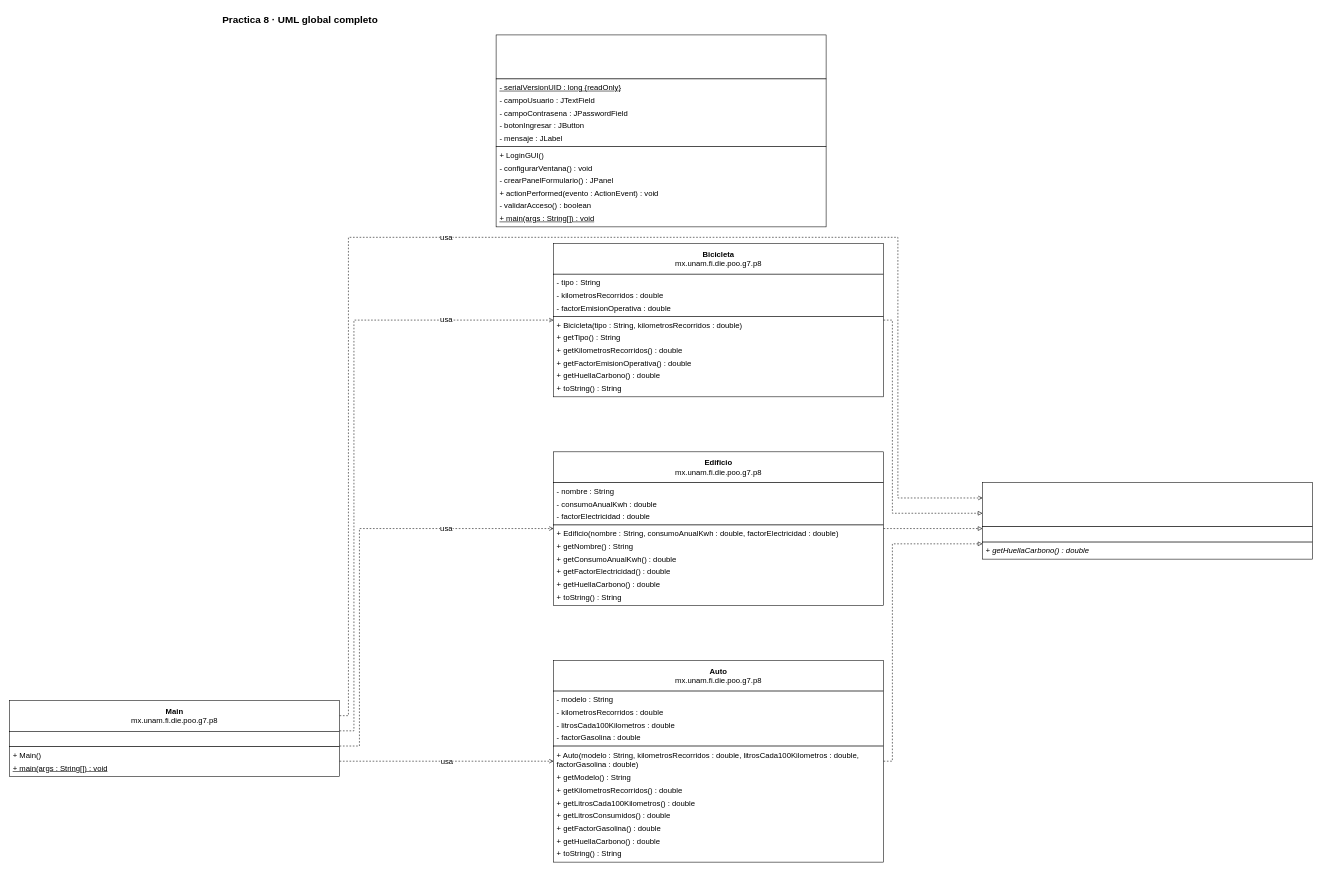
The diagram is 1322 pixels wide and 872 high, and some of its shapes have lost their labels. Each missing label, with the centre of its shape:
LoginGUI mx.unam.fi.die.poo.g7.p8 {leaf}: (x=661, y=56)
«interface» HuellaCarbono mx.unam.fi.die.poo.g7.p8: (x=1147, y=504)
